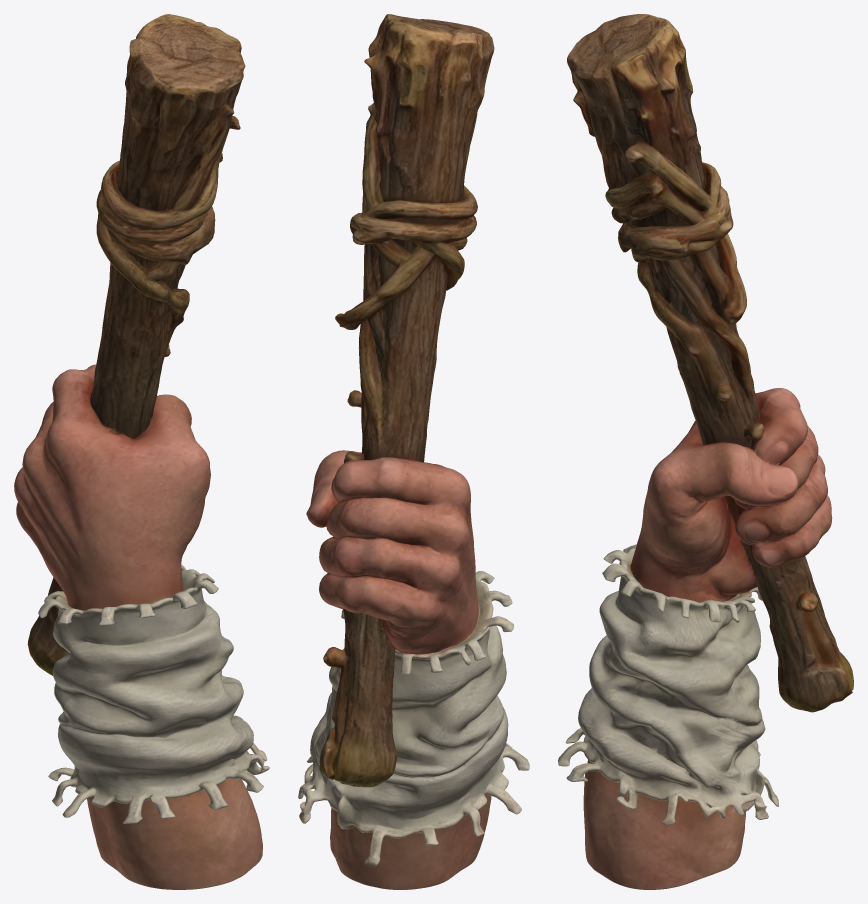
3 renders of one model, left to right at view 1: azimuth 30°, elevation 25°; view 2: azimuth 150°, elevation 25°; view 3: azimuth 270°, elevation 25°, orthographic. The views are drawn at different scales.
Parts seen in each view (by area): view 1: tripo_node_4a371d46-2819-4355-923d-c3507e8a721d; view 2: tripo_node_4a371d46-2819-4355-923d-c3507e8a721d; view 3: tripo_node_4a371d46-2819-4355-923d-c3507e8a721d.
Boxes of the visible parts, bbox=[...] form: tripo_node_4a371d46-2819-4355-923d-c3507e8a721d: bbox=[14, 14, 269, 889]; tripo_node_4a371d46-2819-4355-923d-c3507e8a721d: bbox=[298, 14, 529, 889]; tripo_node_4a371d46-2819-4355-923d-c3507e8a721d: bbox=[558, 14, 853, 889].
Size of the model in its own units: 0.2577 by 1 by 0.3243.
Materials: 1 (1 with a texture image).
